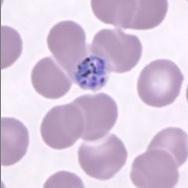Infected: (72, 55, 108, 93)
Uninfected: (136, 57, 182, 108), (68, 93, 117, 140), (79, 133, 127, 180), (92, 29, 142, 73), (47, 20, 88, 71), (41, 103, 85, 149), (146, 125, 188, 173), (131, 150, 179, 188), (32, 56, 73, 98), (114, 0, 169, 30), (0, 117, 29, 165), (90, 0, 142, 25)
